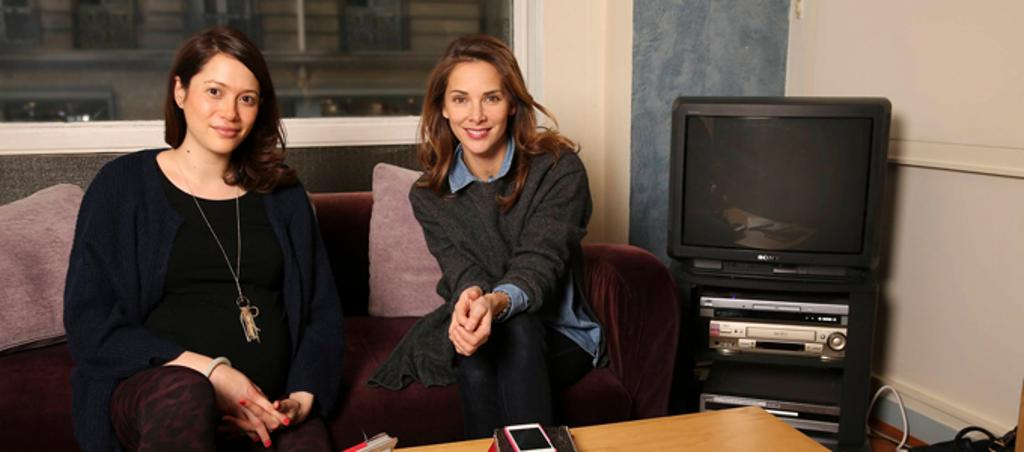face: (190, 54, 262, 152), (446, 64, 502, 148)
